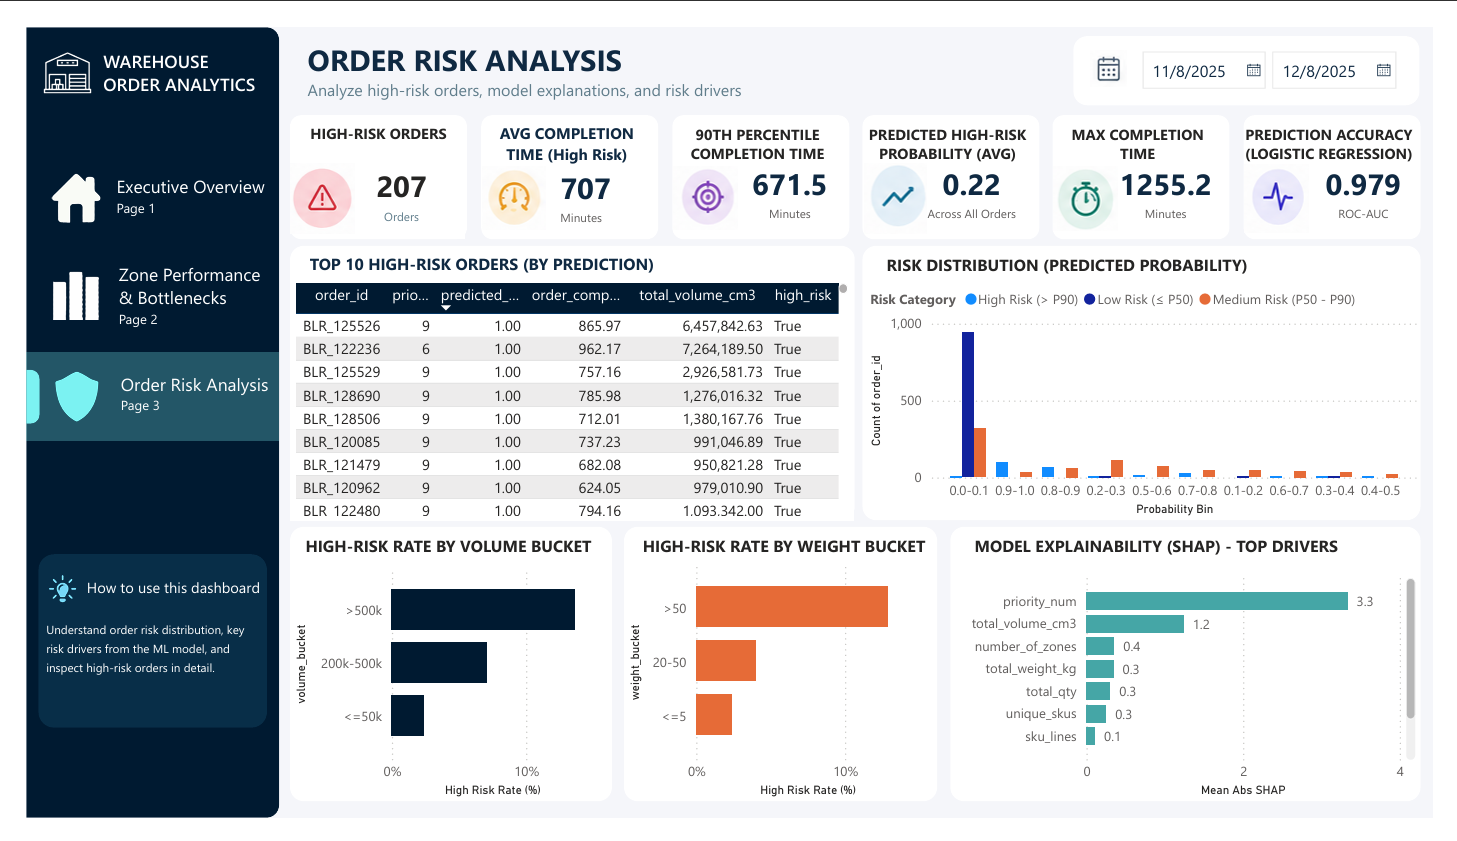

The dashboard page shown, as its layout file describes it:
{"tool":"powerbi","page":{"name":"Order risk analysis","canvas":[1280,720],"ordinal":2},"visuals":[{"type":"shape","box":[0,0,230,720],"z":0},{"type":"shape","box":[953.1,7.7,315.4,63.1],"z":0,"group":"g7"},{"type":"textbox","box":[65,15,158.8,55],"z":0,"group":"g6"},{"type":"shape","box":[240,80,161.2,112.5],"z":0,"group":"g10"},{"type":"shape","box":[413.8,80,161.2,112.5],"z":0,"group":"g8"},{"type":"shape","box":[587.2,80,161.2,112.5],"z":0,"group":"g9"},{"type":"shape","box":[760.6,80,161.2,112.5],"z":0,"group":"g12"},{"type":"shape","box":[934,80,161.2,112.5],"z":0,"group":"g13"},{"type":"shape","box":[1107.4,80,161.2,112.5],"z":0,"group":"g11"},{"type":"group","id":"g1","title":"Group 3","box":[0,296,230,81],"z":0,"group":"g3"},{"type":"shape","box":[0,296,230,81],"z":0,"group":"g1"},{"type":"shape","box":[11.3,480,207.5,157.5],"z":0,"group":"g5"},{"type":"textbox","box":[251.4,5.7,611.4,70],"z":1000},{"type":"image","box":[10,6.2,55,71.2],"z":1000,"group":"g6"},{"type":"slicer","fields":{"Values":["DateTable.Date"]},"box":[1003,11.6,265.7,50],"z":1000,"group":"g7"},{"type":"cardVisual","fields":{"Data":["dashboard_order_completion.High-Risk Orders"]},"box":[283.8,112.5,115,80],"z":1000,"group":"g10"},{"type":"cardVisual","fields":{"Data":["dashboard_order_completion.90th Percentile Completion Time"]},"box":[645.1,112.5,100,75],"z":1000,"group":"g9"},{"type":"cardVisual","fields":{"Data":["Avg(dashboard_order_risk.predicted_high_risk_probability)"]},"box":[802.7,113.6,115.1,74.3],"z":1000,"group":"g12"},{"type":"cardVisual","fields":{"Data":["dashboard_order_completion.Max Completion Time"]},"box":[982.9,113.6,110.3,74.3],"z":1000,"group":"g13"},{"type":"cardVisual","fields":{"Data":["dashboard_shap_summary.ROC-AUC"]},"box":[1170.2,113.6,94.7,74.3],"z":1000,"group":"g11"},{"type":"cardVisual","fields":{"Data":["dashboard_order_completion.Avg Completion Time (High Risk)"]},"box":[485.7,116.2,80,76.2],"z":1000,"group":"g8"},{"type":"textbox","box":[77,129,151,52],"z":1000,"group":"g4"},{"type":"group","id":"g2","title":"Group 2","box":[0,204.5,230,81],"z":1000,"group":"g3"},{"type":"textbox","box":[79,208,145,74],"z":1000,"group":"g2"},{"type":"textbox","box":[81,309,145,56],"z":1000,"group":"g1"},{"type":"textbox","box":[49.6,496.2,169.5,30.5],"z":1000,"group":"g5"},{"type":"image","box":[969.2,17.9,33.1,38.5],"z":2000,"group":"g7"},{"type":"group","id":"g3","title":"Group 4","box":[0,113,230,264],"z":2000},{"type":"group","id":"g4","title":"Group 1","box":[0,113,230,81],"z":2000,"group":"g3"},{"type":"image","box":[240,123.8,58.8,63.8],"z":2000,"group":"g10"},{"type":"image","box":[414.5,123.8,58.8,63.8],"z":2000,"group":"g8"},{"type":"image","box":[588.8,123.8,58.8,63.8],"z":2000,"group":"g9"},{"type":"image","box":[762.2,123.8,58.8,63.8],"z":2000,"group":"g12"},{"type":"image","box":[935.6,123.8,58.8,63.8],"z":2000,"group":"g13"},{"type":"image","box":[1109,123.8,58.8,63.8],"z":2000,"group":"g11"},{"type":"shape","box":[0,312,12.1,49.1],"z":2000,"group":"g1"},{"type":"textbox","box":[13.4,534.3,204.3,82.9],"z":2000,"group":"g5"},{"type":"textbox","box":[408.9,81.8,165.7,57.1],"z":3000,"group":"g8"},{"type":"textbox","box":[240,82.5,161.2,41.2],"z":3000,"group":"g10"},{"type":"textbox","box":[582.7,83.8,165,45],"z":3000,"group":"g9"},{"type":"textbox","box":[756.1,83.8,165,45],"z":3000,"group":"g12"},{"type":"textbox","box":[929.5,83.8,165,45],"z":3000,"group":"g13"},{"type":"textbox","box":[1102.9,83.8,165,45],"z":3000,"group":"g11"},{"type":"image","box":[20,133,51,45],"z":3000,"group":"g4"},{"type":"image","box":[15,205,61,60],"z":3000,"group":"g2"},{"type":"image","box":[5,306,82,61],"z":3000,"group":"g1"},{"type":"group","id":"g5","title":"Group 5","box":[11,480,208.1,157.5],"z":3000},{"type":"image","box":[11,488.6,44.3,45.7],"z":3000,"group":"g5"},{"type":"group","id":"g6","title":"Group 6","box":[10,6.2,213.8,71.2],"z":4000},{"type":"actionButton","box":[0,113,230,81],"z":4000,"group":"g4"},{"type":"actionButton","box":[0,204.5,230,81],"z":4000,"group":"g2"},{"type":"actionButton","box":[0,296,230,81],"z":4000,"group":"g1"},{"type":"group","id":"g7","title":"Group 8","box":[953.1,7.7,315.6,63.1],"z":5000},{"type":"shape","box":[240,198.8,513.8,250],"z":6000},{"type":"shape","box":[761.2,198.8,507.5,250],"z":7000},{"type":"shape","box":[240,455,292.5,250],"z":8000},{"type":"shape","box":[544.4,455,285,250],"z":9000},{"type":"shape","box":[841.2,455,427.5,250],"z":10000},{"type":"group","id":"g8","title":"Group 7","box":[408.9,80,166.1,112.5],"z":11000},{"type":"group","id":"g9","title":"Group 7","box":[582.7,80,165.8,112.5],"z":12000},{"type":"textbox","box":[253,200.2,466.4,44.4],"z":13000},{"type":"textbox","box":[778.1,201.4,407.6,33.6],"z":14000},{"type":"clusteredBarChart","fields":{"Category":["dashboard_order_risk.volume_bucket"],"Y":["dashboard_order_risk.High_Risk_rate"]},"box":[240,480,292.9,225.7],"z":15000},{"type":"textbox","box":[248.6,457.1,321.4,38.6],"z":16000},{"type":"clusteredBarChart","fields":{"Category":["dashboard_order_risk.weight_bucket"],"Y":["dashboard_order_risk.High_Risk_rate"]},"box":[544.3,477.1,285.7,228.6],"z":17000},{"type":"textbox","box":[556.3,456.8,281.8,38.4],"z":18000},{"type":"clusteredBarChart","fields":{"Category":["dashboard_shap_summary.feature"],"Y":["Avg(dashboard_shap_summary.mean_abs_shap)"]},"box":[841.4,488.6,427.1,217.1],"z":19000},{"type":"textbox","box":[858.4,456.8,380.1,38.4],"z":20000},{"type":"group","id":"g10","title":"Group 7","box":[240,80,161.2,112.5],"z":21000},{"type":"group","id":"g11","title":"Group 7","box":[1102.9,80,165.8,112.5],"z":22000},{"type":"group","id":"g12","title":"Group 7","box":[756.1,80,165.8,112.5],"z":23000},{"type":"group","id":"g13","title":"Group 7","box":[929.5,80,165.8,112.5],"z":24000},{"type":"clusteredColumnChart","fields":{"Y":["CountNonNull(dashboard_order_completion.order_id)"],"Series":["dashboard_order_completion.Risk Category"],"Category":["dashboard_order_risk.probability_bin"]},"box":[762.5,227.8,508.4,221.8],"z":25000},{"type":"tableEx","fields":{"Values":["dashboard_order_risk.order_id","dashboard_order_risk.priority_num","dashboard_order_risk.predicted_high_risk_probability","dashboard_order_risk.order_completion_minutes","dashboard_order_risk.total_volume_cm3","dashboard_order_risk.high_risk"]},"box":[239.8,227.8,513.2,221.8],"z":26000}]}

Visuals, with their boxes in screenshot pixels (x1, y1, x2, y2), scaled from the page's 1280x720 canvas onto the 1457x841 screenshot:
shape: region(0, 0, 262, 840)
shape: region(1085, 9, 1444, 83)
textbox: region(74, 18, 255, 82)
shape: region(273, 93, 457, 225)
shape: region(471, 93, 655, 225)
shape: region(668, 93, 852, 225)
shape: region(866, 93, 1049, 225)
shape: region(1063, 93, 1247, 225)
shape: region(1261, 93, 1444, 225)
"Group 3" group: region(0, 346, 262, 440)
shape: region(0, 346, 262, 440)
shape: region(13, 561, 249, 745)
textbox: region(286, 7, 982, 88)
image: region(11, 7, 74, 90)
slicer - DateTable.Date: region(1142, 14, 1444, 72)
cardVisual - dashboard_order_completion.High-Risk Orders: region(323, 131, 454, 225)
cardVisual - dashboard_order_completion.90th Percentile Completion Time: region(734, 131, 848, 219)
cardVisual - Avg(dashboard_order_risk.predicted_high_risk_probability): region(914, 133, 1045, 219)
cardVisual - dashboard_order_completion.Max Completion Time: region(1119, 133, 1244, 219)
cardVisual - dashboard_shap_summary.ROC-AUC: region(1332, 133, 1440, 219)
cardVisual - dashboard_order_completion.Avg Completion Time (High Risk): region(553, 136, 644, 225)
textbox: region(88, 151, 260, 211)
"Group 2" group: region(0, 239, 262, 333)
textbox: region(90, 243, 255, 329)
textbox: region(92, 361, 257, 426)
textbox: region(56, 580, 249, 615)
image: region(1103, 21, 1141, 66)
"Group 4" group: region(0, 132, 262, 440)
"Group 1" group: region(0, 132, 262, 227)
image: region(273, 145, 340, 219)
image: region(472, 145, 539, 219)
image: region(670, 145, 737, 219)
image: region(868, 145, 935, 219)
image: region(1065, 145, 1132, 219)
image: region(1262, 145, 1329, 219)
shape: region(0, 364, 14, 422)
textbox: region(15, 624, 248, 721)
textbox: region(465, 96, 654, 162)
textbox: region(273, 96, 457, 144)
textbox: region(663, 98, 851, 150)
textbox: region(861, 98, 1048, 150)
textbox: region(1058, 98, 1246, 150)
textbox: region(1255, 98, 1443, 150)
image: region(23, 155, 81, 208)
image: region(17, 239, 87, 310)
image: region(6, 357, 99, 429)
"Group 5" group: region(13, 561, 249, 745)
image: region(13, 571, 63, 624)
"Group 6" group: region(11, 7, 255, 90)
actionButton: region(0, 132, 262, 227)
actionButton: region(0, 239, 262, 333)
actionButton: region(0, 346, 262, 440)
"Group 8" group: region(1085, 9, 1444, 83)
shape: region(273, 232, 858, 524)
shape: region(866, 232, 1444, 524)
shape: region(273, 531, 606, 823)
shape: region(620, 531, 944, 823)
shape: region(958, 531, 1444, 823)
"Group 7" group: region(465, 93, 655, 225)
"Group 7" group: region(663, 93, 852, 225)
textbox: region(288, 234, 819, 286)
textbox: region(886, 235, 1350, 274)
clusteredBarChart - dashboard_order_risk.volume_bucket x dashboard_order_risk.High_Risk_rate: region(273, 561, 607, 824)
textbox: region(283, 534, 649, 579)
clusteredBarChart - dashboard_order_risk.weight_bucket x dashboard_order_risk.High_Risk_rate: region(620, 557, 945, 824)
textbox: region(633, 534, 954, 578)
clusteredBarChart - dashboard_shap_summary.feature x Avg(dashboard_shap_summary.mean_abs_shap): region(958, 571, 1444, 824)
textbox: region(977, 534, 1410, 578)
"Group 7" group: region(273, 93, 457, 225)
"Group 7" group: region(1255, 93, 1444, 225)
"Group 7" group: region(861, 93, 1049, 225)
"Group 7" group: region(1058, 93, 1247, 225)
clusteredColumnChart - CountNonNull(dashboard_order_completion.order_id) x dashboard_order_completion.Risk Category: region(868, 266, 1447, 525)
tableEx - dashboard_order_risk.order_id x dashboard_order_risk.priority_num: region(273, 266, 857, 525)
